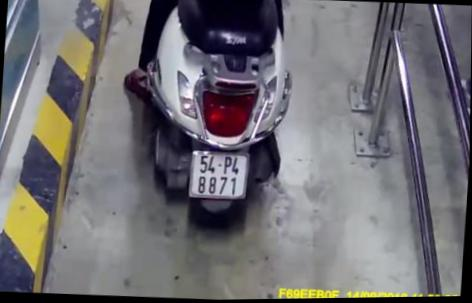LP: (187, 145, 251, 204)
